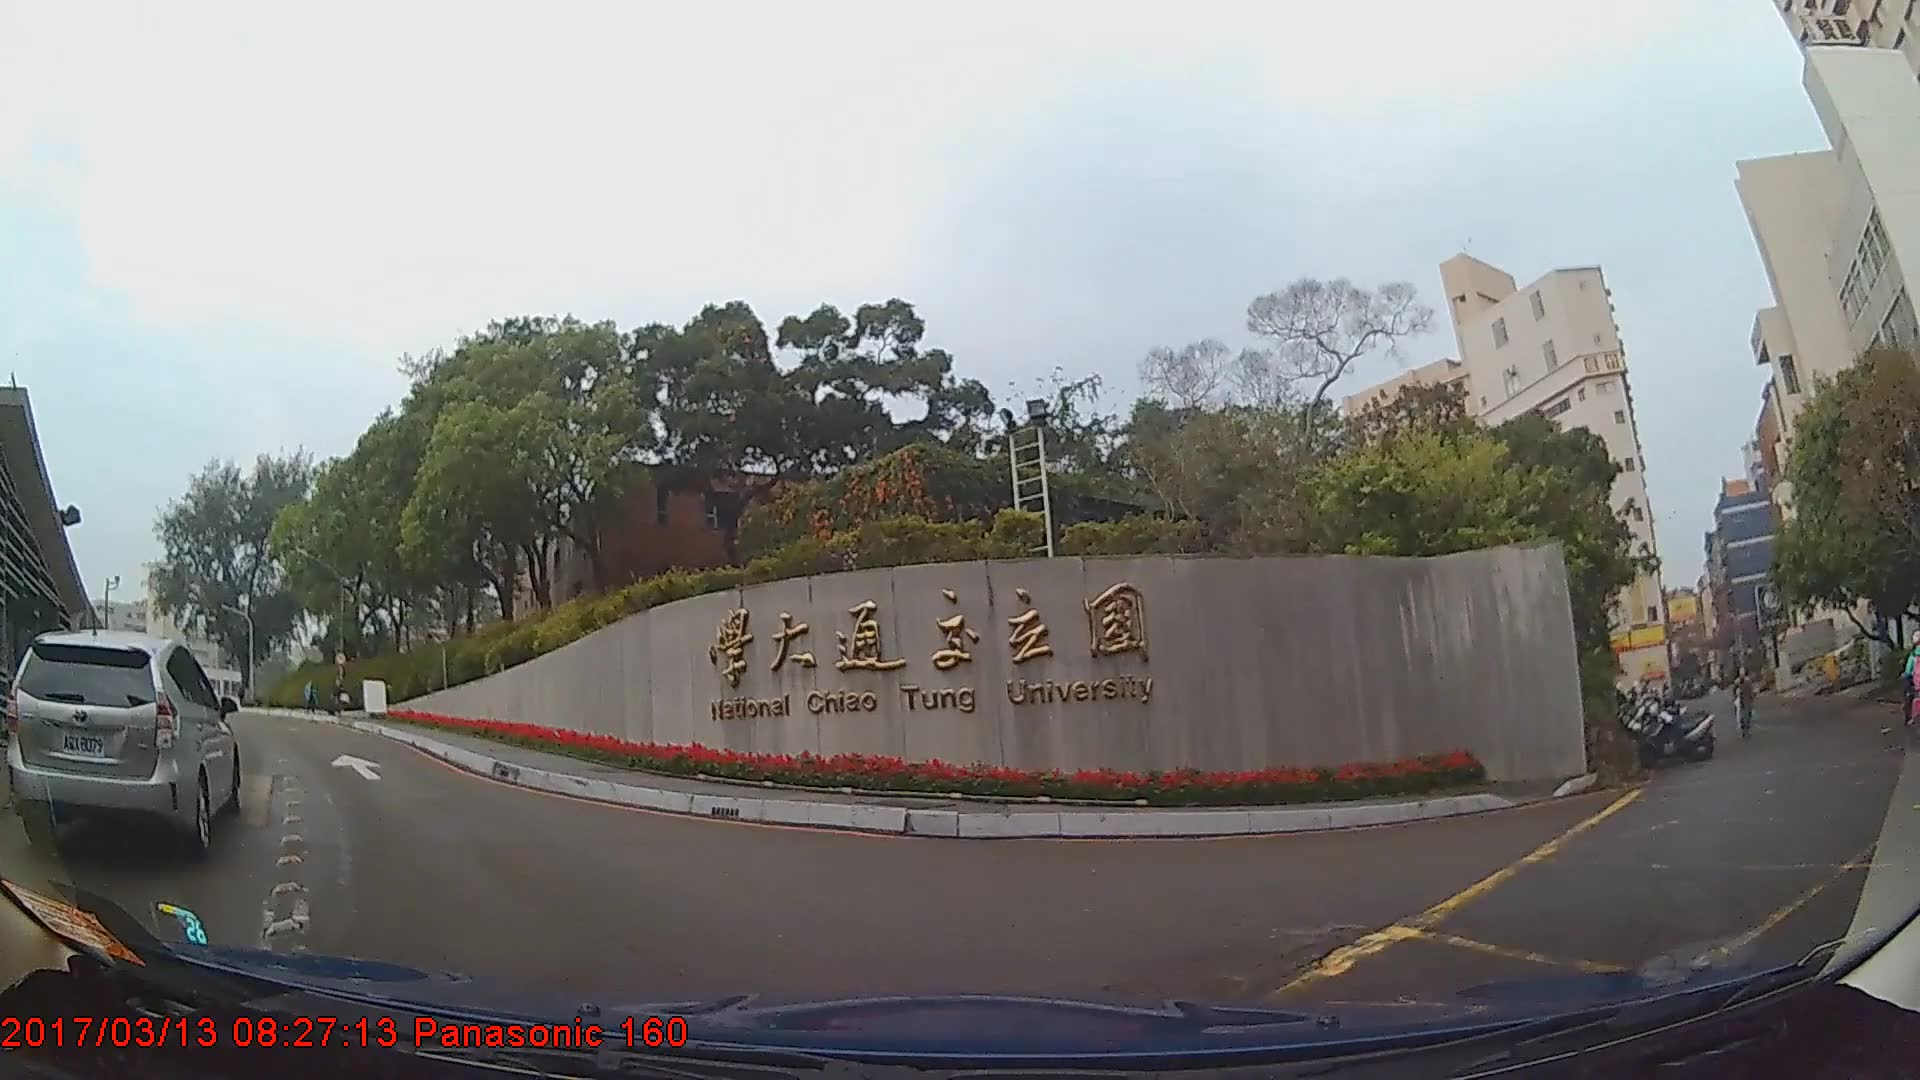pedestrian: (1731, 666, 1758, 739)
vehicle: (8, 627, 241, 856)
